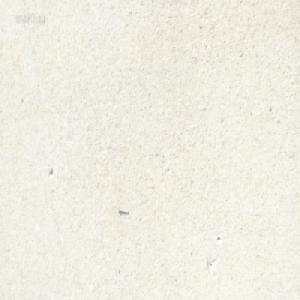Nail: (118, 208, 129, 215)
